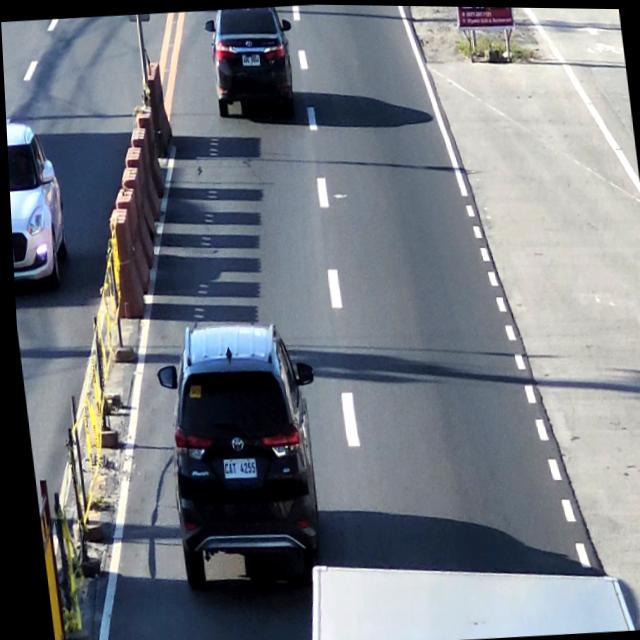Car: (152, 313, 323, 577), (201, 4, 294, 124)
License-Plate: (215, 455, 254, 479), (239, 51, 261, 68)
Truck: (299, 539, 629, 640)
